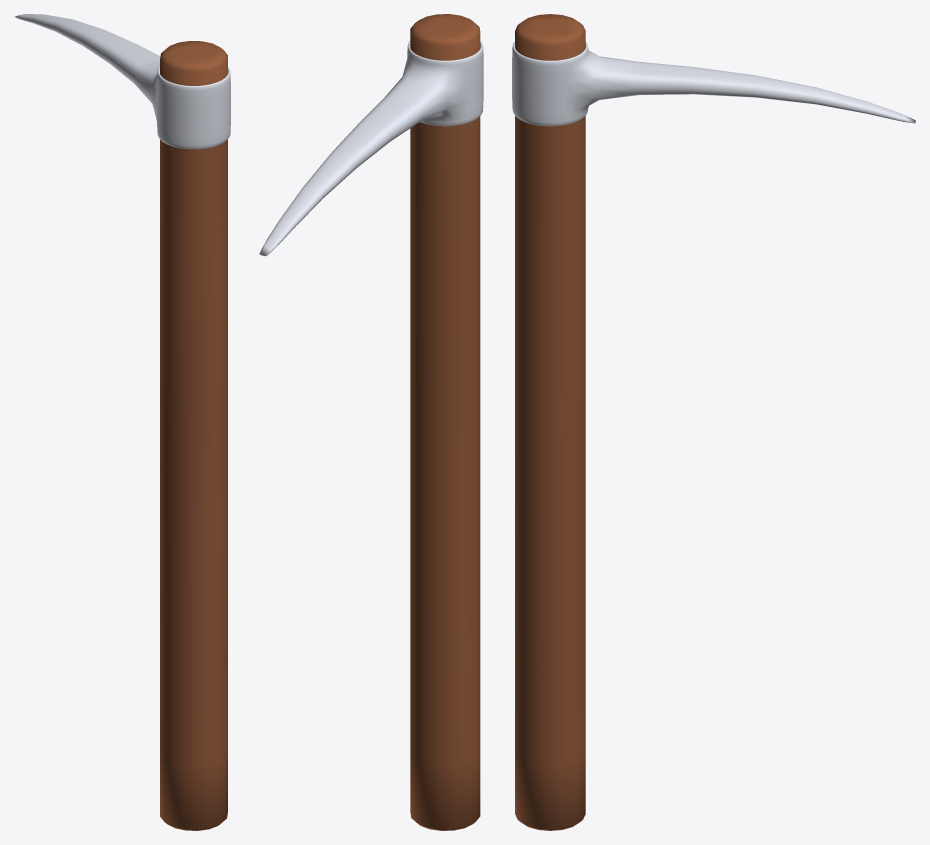
File: Pickaxe.fbx
3 views of the same model, side by side, from view 1: azimuth 30°, elevation 25°; view 2: azimuth 150°, elevation 25°; view 3: azimuth 270°, elevation 25° (orthographic). The views are drawn at different scales.
Parts seen in each view (by area): view 1: Stick, Pick; view 2: Stick, Pick; view 3: Stick, Pick.
Part boxes in pixels (left/top/right/bottom): Stick: left=160, top=41, right=227, bottom=830; Pick: left=14, top=14, right=230, bottom=149; Stick: left=410, top=14, right=480, bottom=830; Pick: left=259, top=41, right=483, bottom=256; Stick: left=515, top=14, right=585, bottom=830; Pick: left=512, top=41, right=915, bottom=126.
Size of the model in its own units: 7.45 by 85 by 39.34.
